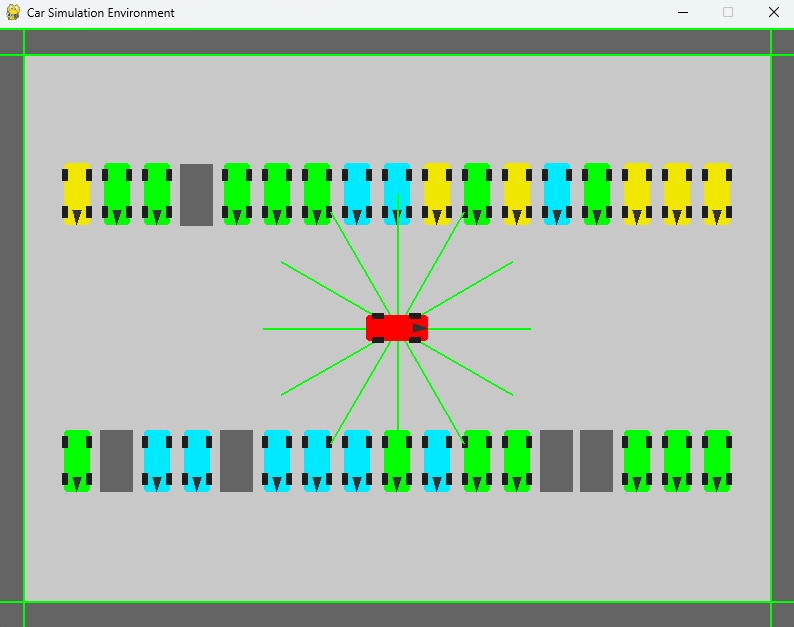ControlledCar: (364, 310, 430, 345)
ParkedCar: (699, 423, 740, 495), (697, 157, 738, 226), (297, 424, 335, 497), (55, 157, 94, 228), (338, 424, 375, 498), (55, 428, 96, 494), (498, 158, 537, 226), (578, 159, 616, 227), (99, 158, 136, 227), (378, 426, 415, 495), (658, 427, 695, 496), (617, 163, 656, 228), (456, 160, 494, 226), (457, 428, 494, 495), (260, 424, 294, 496), (498, 426, 533, 495), (619, 426, 654, 495), (259, 157, 293, 227), (219, 161, 255, 227), (540, 159, 574, 228), (176, 428, 211, 495), (659, 157, 692, 228), (299, 158, 333, 226), (140, 157, 173, 227), (420, 428, 455, 494), (419, 159, 453, 225), (338, 162, 373, 226), (139, 426, 171, 494), (381, 160, 413, 225)
ParkingSpot: (214, 421, 257, 498), (576, 424, 617, 498), (533, 424, 574, 496), (178, 159, 215, 233), (99, 425, 135, 498)
